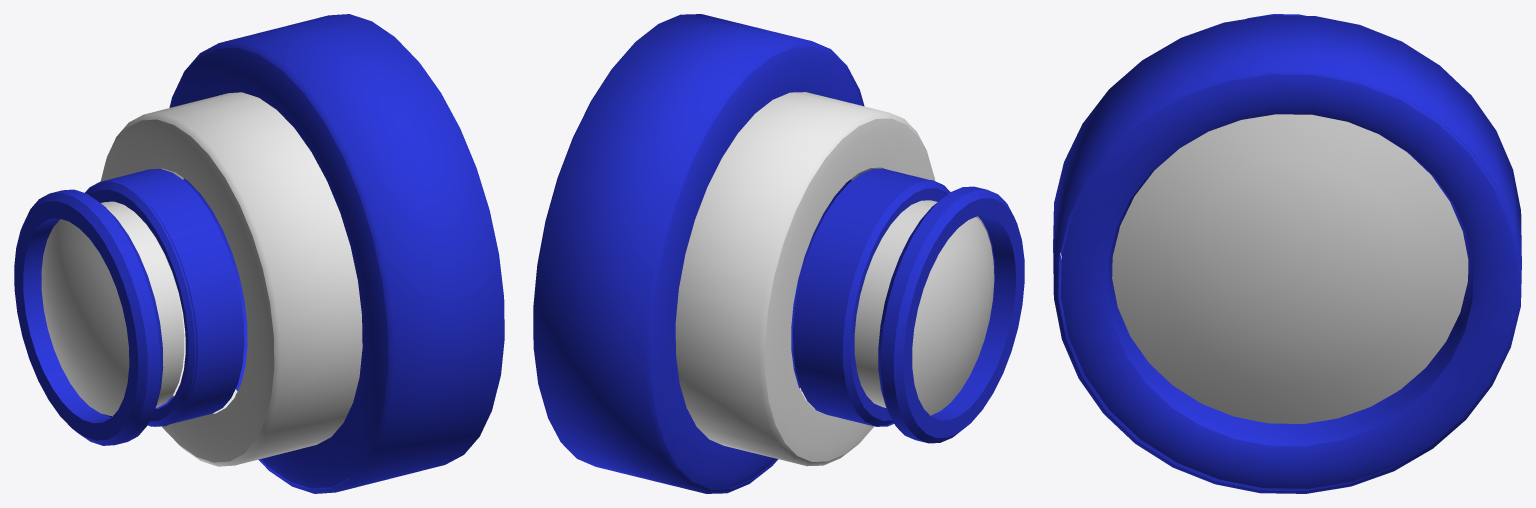
File: telescope.glb
The picture shows the model from 3 angles, left to right: view 1: azimuth 30°, elevation 25°; view 2: azimuth 150°, elevation 25°; view 3: azimuth 270°, elevation 25°; orthographic projection.
Parts seen in each view (by area): view 1: telescope_9; view 2: telescope_9; view 3: telescope_9.
Part boxes in pixels (bbox=[...]): telescope_9: bbox=[14, 14, 504, 493]; telescope_9: bbox=[533, 14, 1024, 493]; telescope_9: bbox=[1053, 14, 1521, 493].
Size of the model in its own units: 0.2841 by 0.3566 by 0.3568.
